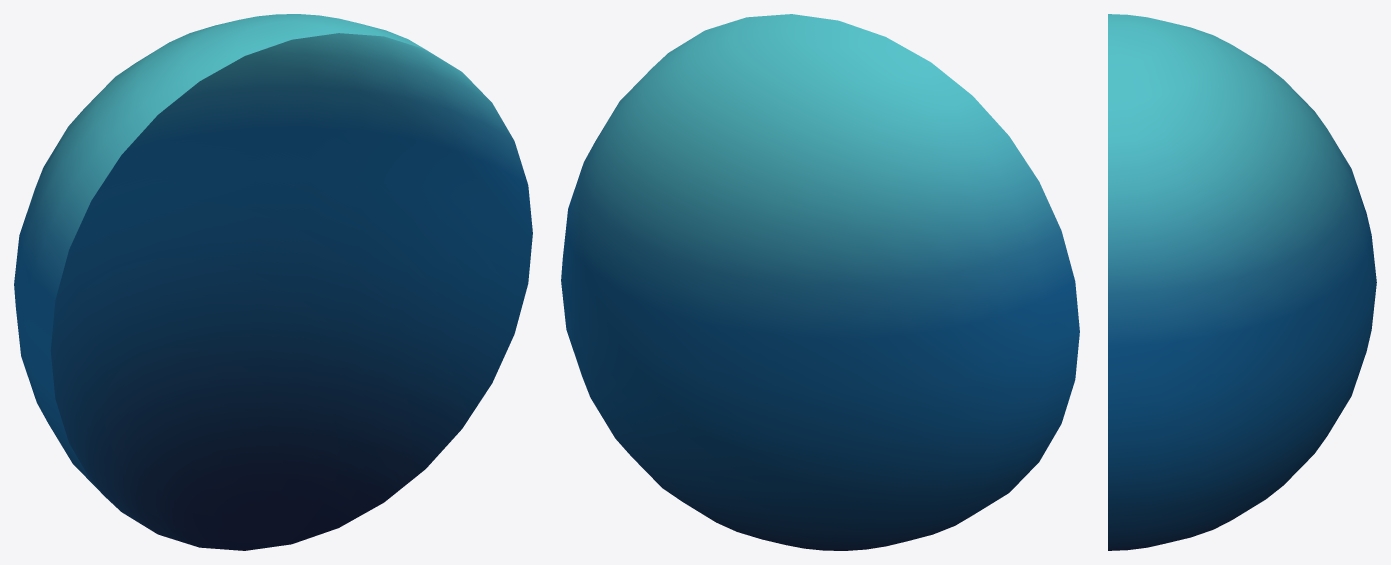
File: fondo.glb
The picture shows the model from 3 angles, left to right: view 1: azimuth 30°, elevation 25°; view 2: azimuth 150°, elevation 25°; view 3: azimuth 270°, elevation 25°; orthographic projection. The views are drawn at different scales.
Visible parts, largest first — view 1: fondo; view 2: fondo; view 3: fondo.
Part boxes in pixels (x1,y1,x2,y2): fondo: (14, 14, 532, 550); fondo: (561, 14, 1079, 550); fondo: (1108, 14, 1376, 550).
Bounding box in the file's own units: 2.83 × 2.83 × 1.42.
